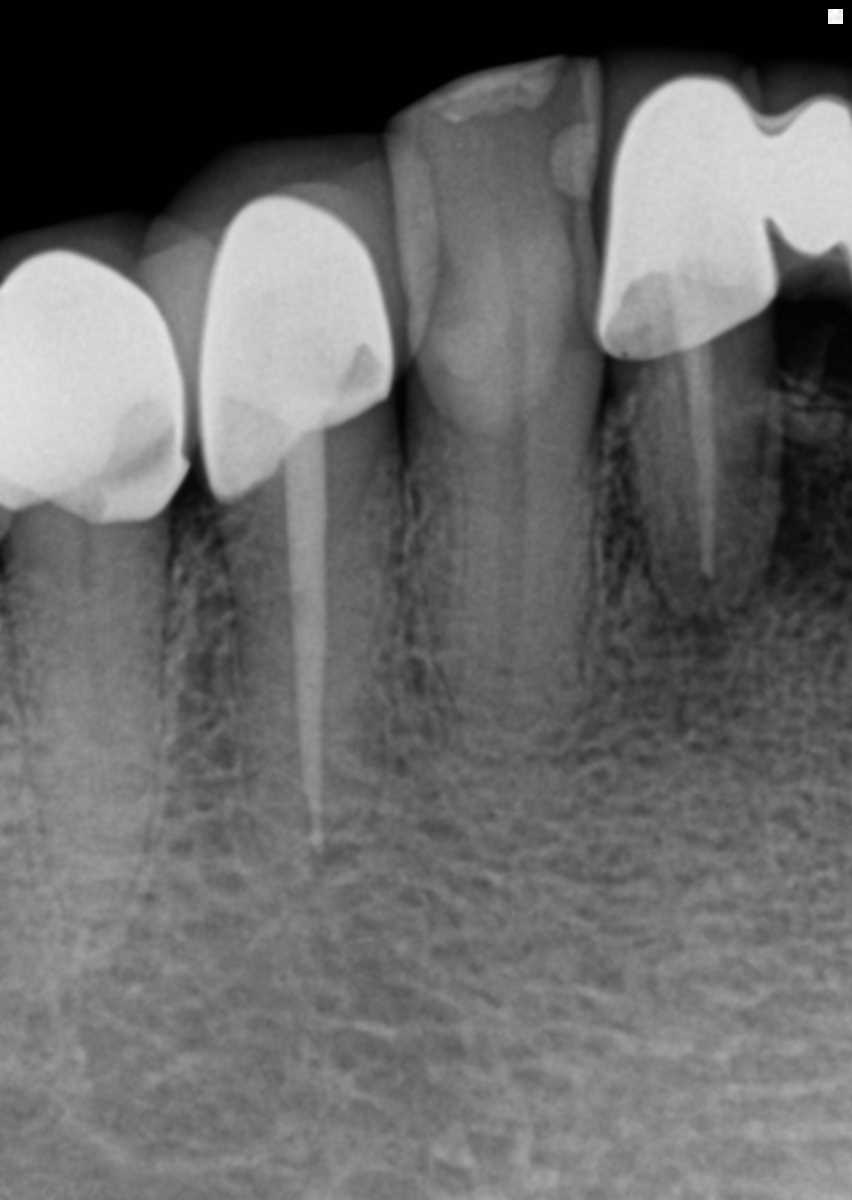Apical Lesion: (663, 445, 852, 659)
Main Canal: (501, 384, 531, 737), (81, 559, 102, 721)
Main Root: (210, 431, 400, 876), (0, 547, 172, 926), (433, 375, 606, 739), (630, 350, 785, 621)
Root Canal Filling: (288, 450, 331, 860), (678, 358, 717, 590)
